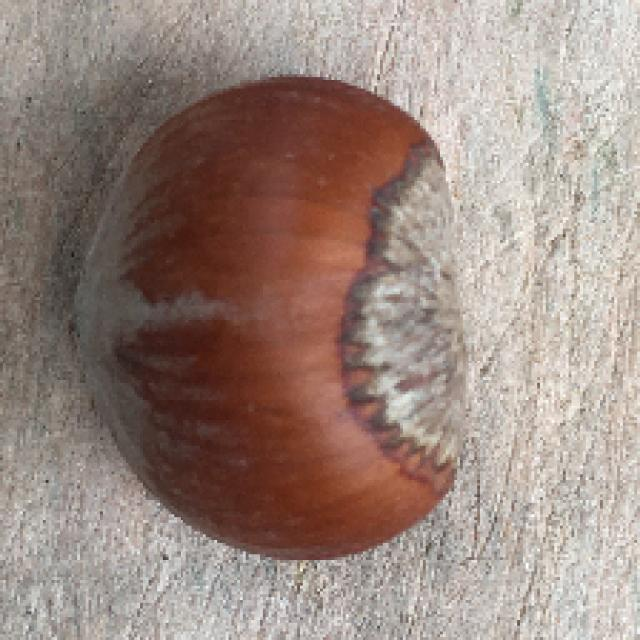qualityHazelnut: (60, 75, 482, 568)
